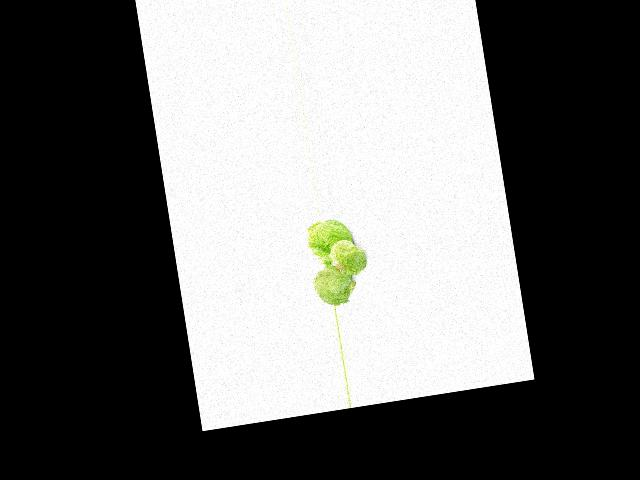lettuce: (307, 219, 352, 261)
